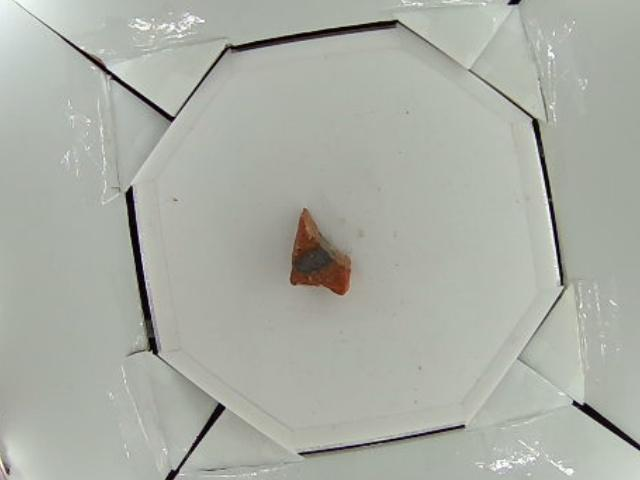Brisk: (289, 208, 351, 297)
